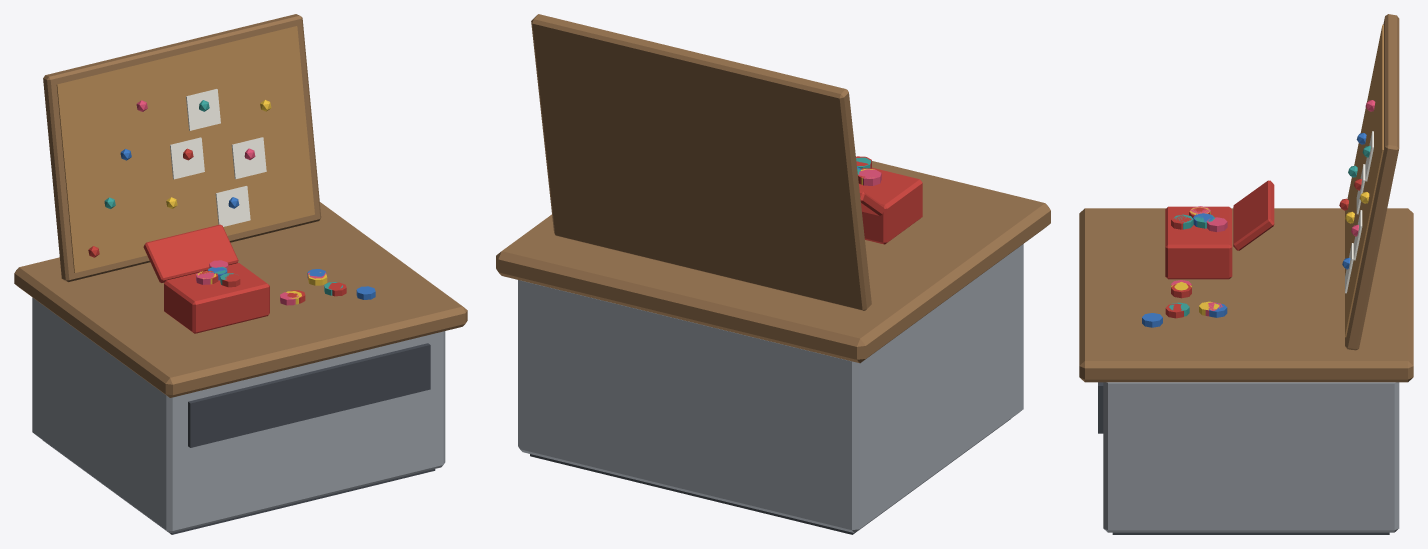
File: thumbtacks_2.glb
The picture shows the model from 3 angles, left to right: view 1: azimuth 30°, elevation 25°; view 2: azimuth 150°, elevation 25°; view 3: azimuth 270°, elevation 25°; orthographic projection. The views are drawn at different scales.
Visible parts, largest first — view 1: thumbtacks_2_mesh_Desk, thumbtacks_2_mesh; view 2: thumbtacks_2_mesh_Desk, thumbtacks_2_mesh; view 3: thumbtacks_2_mesh_Desk, thumbtacks_2_mesh.
Part boxes in pixels (bbox=[...]): thumbtacks_2_mesh_Desk: bbox=[14, 202, 467, 534]; thumbtacks_2_mesh: bbox=[43, 14, 375, 333]; thumbtacks_2_mesh_Desk: bbox=[496, 161, 1050, 534]; thumbtacks_2_mesh: bbox=[531, 14, 922, 310]; thumbtacks_2_mesh_Desk: bbox=[1079, 208, 1413, 534]; thumbtacks_2_mesh: bbox=[1142, 14, 1399, 350].
Bounding box in the file's own units: 0.78 × 0.8939 × 0.7.
